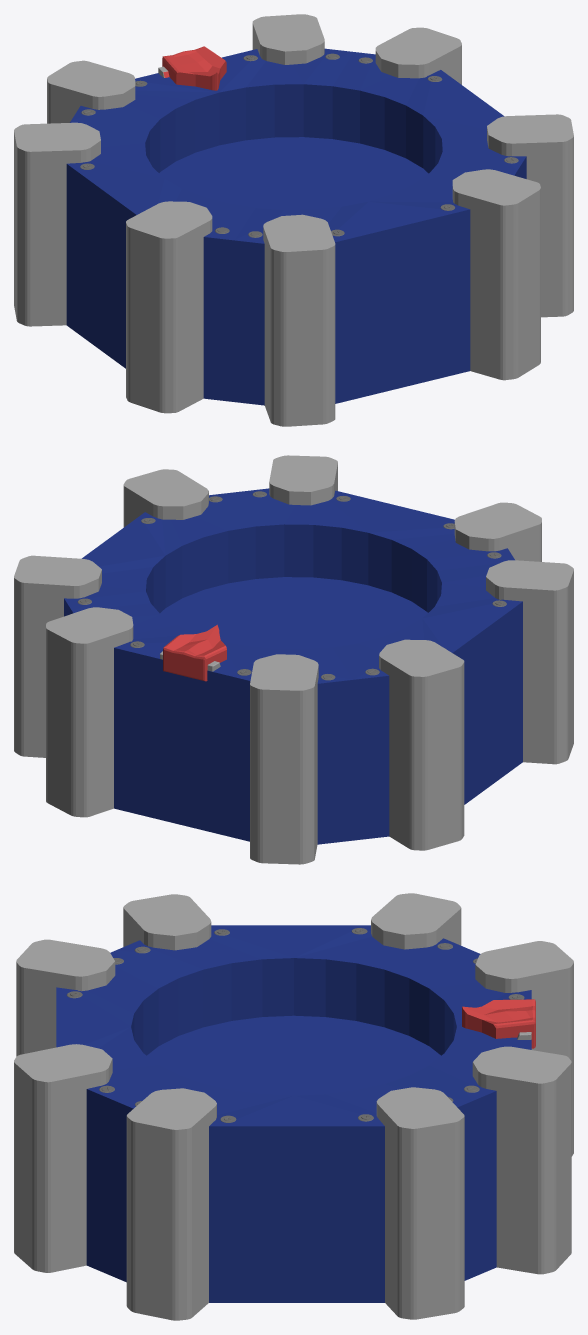
The model's file is RotaterBase.fbx.
3 views of the same model, one above another, from view 1: azimuth 30°, elevation 25°; view 2: azimuth 150°, elevation 25°; view 3: azimuth 270°, elevation 25° (orthographic). The views are drawn at different scales.
Parts seen in each view (by area): view 1: Base; view 2: Base; view 3: Base.
Boxes of the visible parts, <box> form: Base: <box>14,14,573,426</box>; Base: <box>14,455,573,864</box>; Base: <box>14,893,573,1320</box>.
Bounding box in the file's own units: 3.54 × 1.37 × 3.54.
